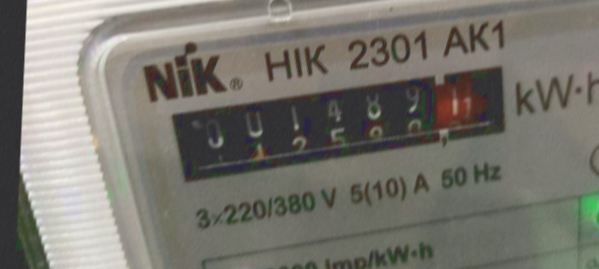0: (238, 104, 265, 141), (199, 116, 225, 152)
1: (442, 81, 462, 120), (282, 102, 303, 134)
4: (320, 94, 344, 125)
8: (361, 87, 383, 124)
9: (400, 83, 421, 116)
screen: (154, 43, 536, 210)
